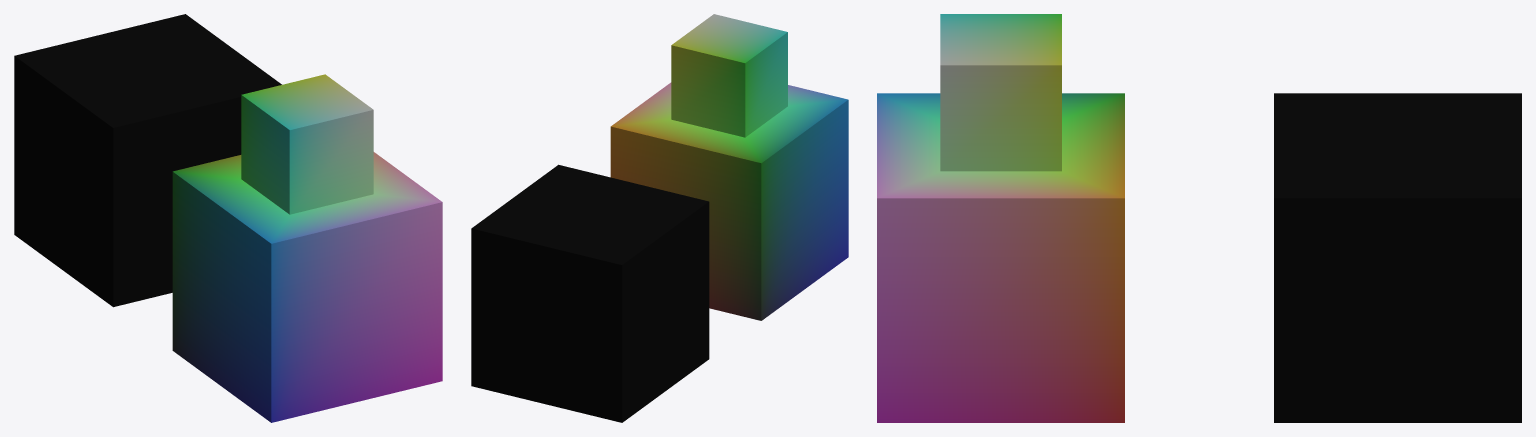
File: SM_2cubes_test.fbx
3 views of the same model, side by side, from view 1: azimuth 30°, elevation 25°; view 2: azimuth 150°, elevation 25°; view 3: azimuth 270°, elevation 25° (orthographic). The views are drawn at different scales.
Visible parts, largest first — view 1: SM_2cubes_test; view 2: SM_2cubes_test; view 3: SM_2cubes_test.
Boxes of the visible parts, x1,y1,x2,y2 form: SM_2cubes_test: (14,14,442,422); SM_2cubes_test: (471,14,848,422); SM_2cubes_test: (877,14,1521,422).
Bounding box in the file's own units: 100 × 147 × 260.
